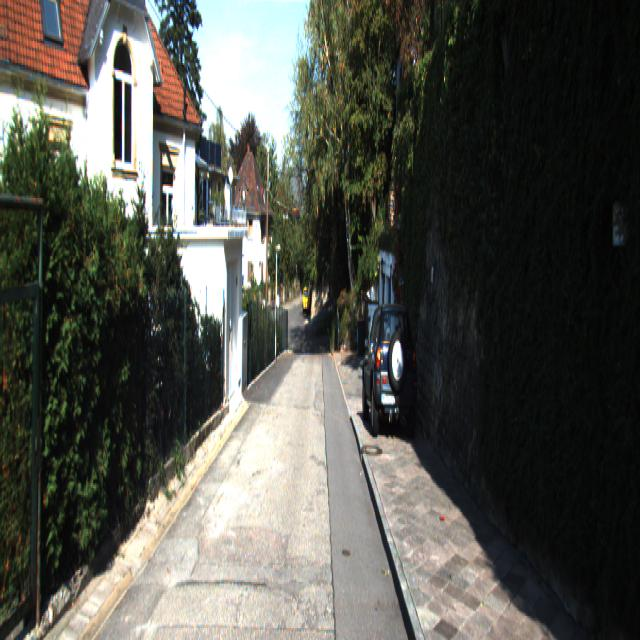Car: (361, 299, 419, 442)
